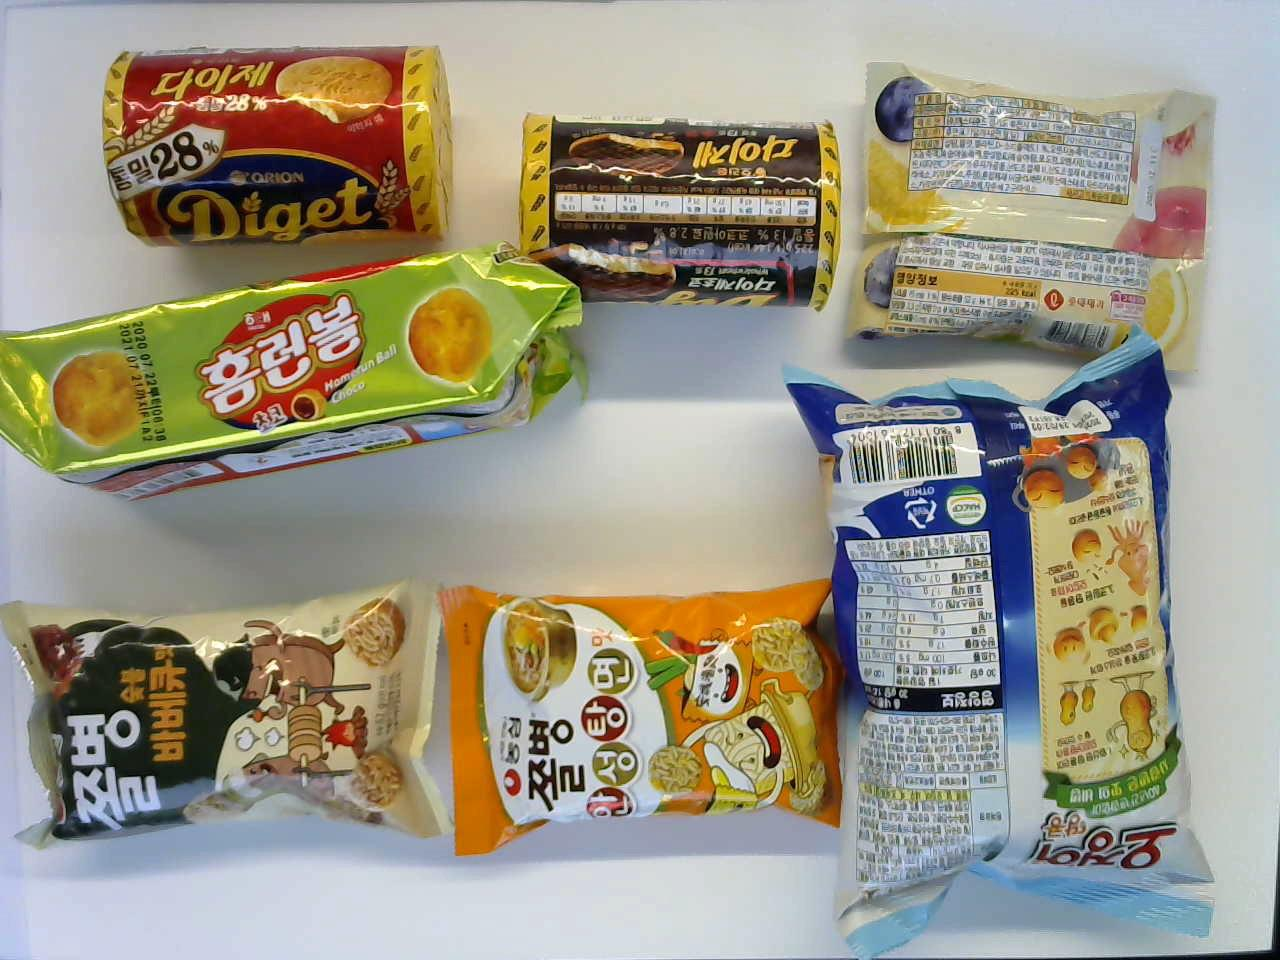diget_choco: (515, 108, 841, 311)
diget_ori: (97, 42, 459, 244)
gumi_gumi: (851, 58, 1218, 372)
homerunball: (0, 243, 595, 507)
jjolbyung_noodle: (431, 579, 848, 862)
jjolbyung_ori: (2, 575, 454, 854)
squid_peanut: (774, 359, 1218, 941)
